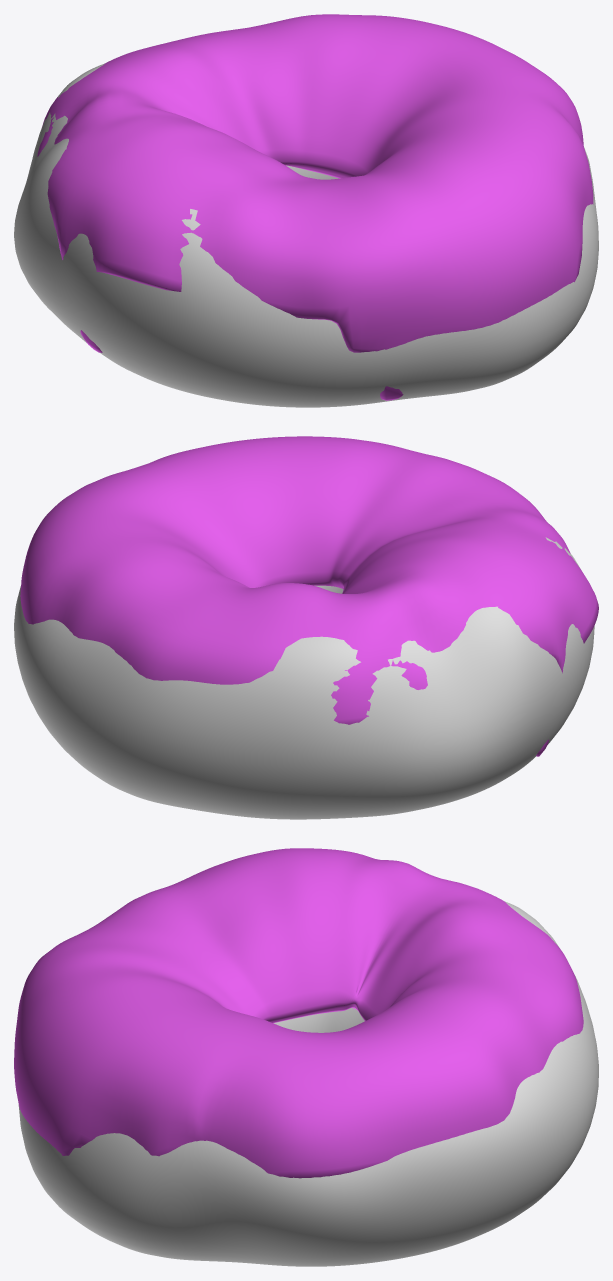
Rendered from donut5.glb.
3 renders of one model, top to bottom at view 1: azimuth 30°, elevation 25°; view 2: azimuth 150°, elevation 25°; view 3: azimuth 270°, elevation 25°, orthographic. The views are drawn at different scales.
Visible parts, largest first — view 1: Torus.014; view 2: Torus.014; view 3: Torus.014.
Part boxes in pixels (bbox=[...]): Torus.014: bbox=[14, 14, 598, 407]; Torus.014: bbox=[14, 436, 598, 819]; Torus.014: bbox=[14, 848, 598, 1266].
Size of the model in its own units: 0.4323 by 0.1936 by 0.4141.
